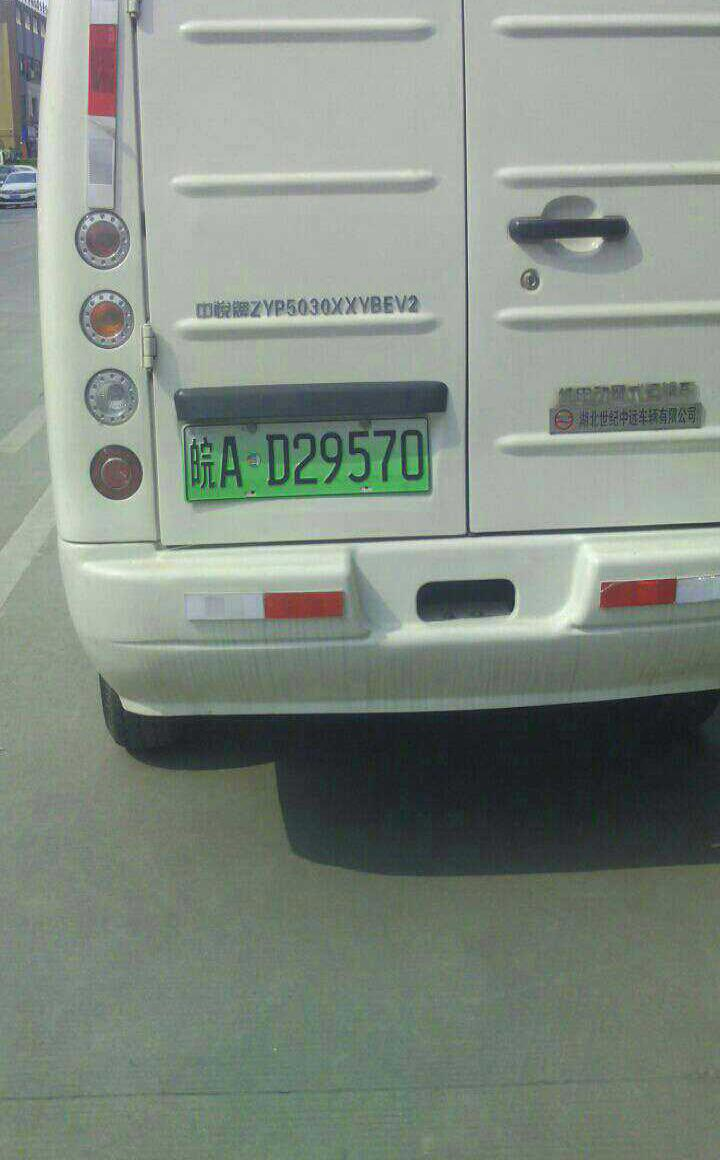car_green: (176, 420, 436, 506)
